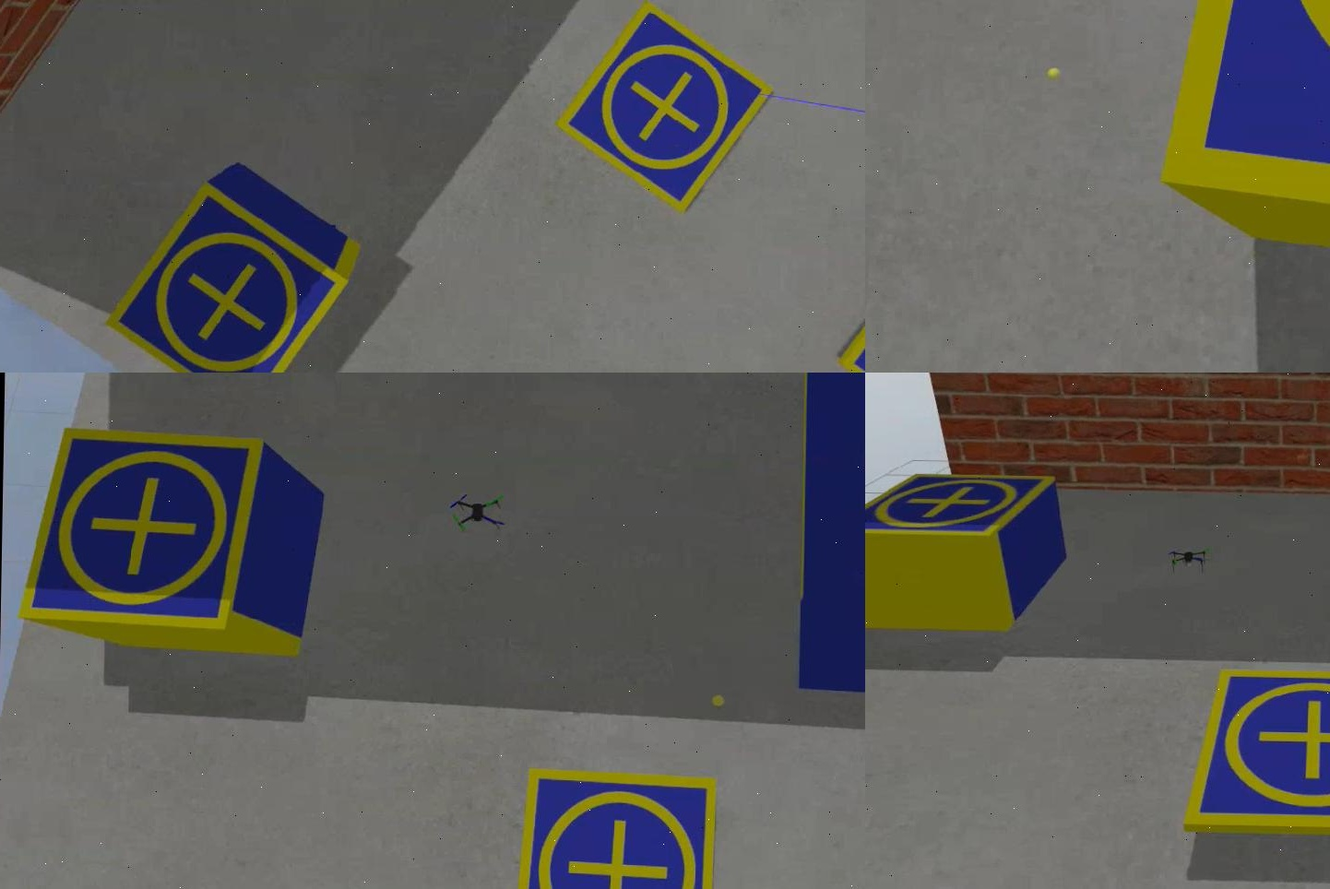small_base: (16, 428, 264, 634), (1158, 1, 1328, 286), (103, 177, 347, 373), (557, 1, 774, 219), (1179, 667, 1328, 838), (511, 767, 715, 889), (864, 469, 1059, 550), (831, 229, 864, 373)
